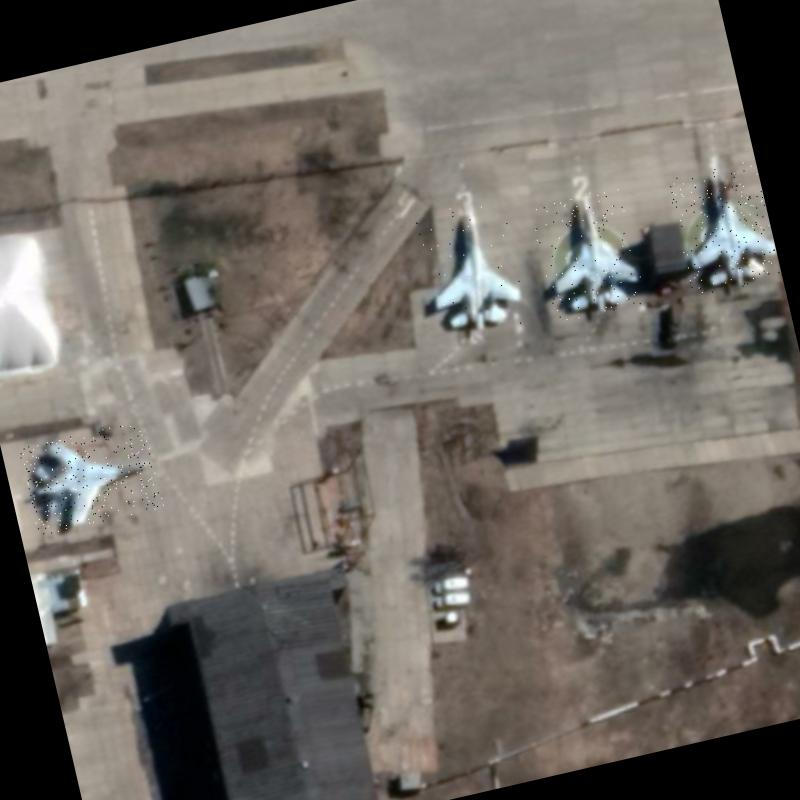A1: (409, 194, 530, 343), (18, 419, 164, 536), (528, 183, 646, 323), (666, 158, 781, 297)
